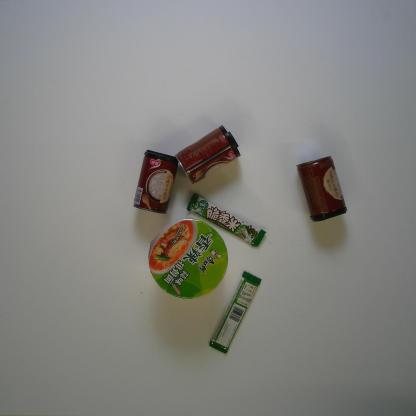Canned Food: (174, 122, 243, 186), (296, 152, 349, 224), (132, 148, 180, 218)
Chocolate: (184, 190, 266, 248), (207, 270, 262, 354)
Instant Noodles: (149, 215, 229, 301)
